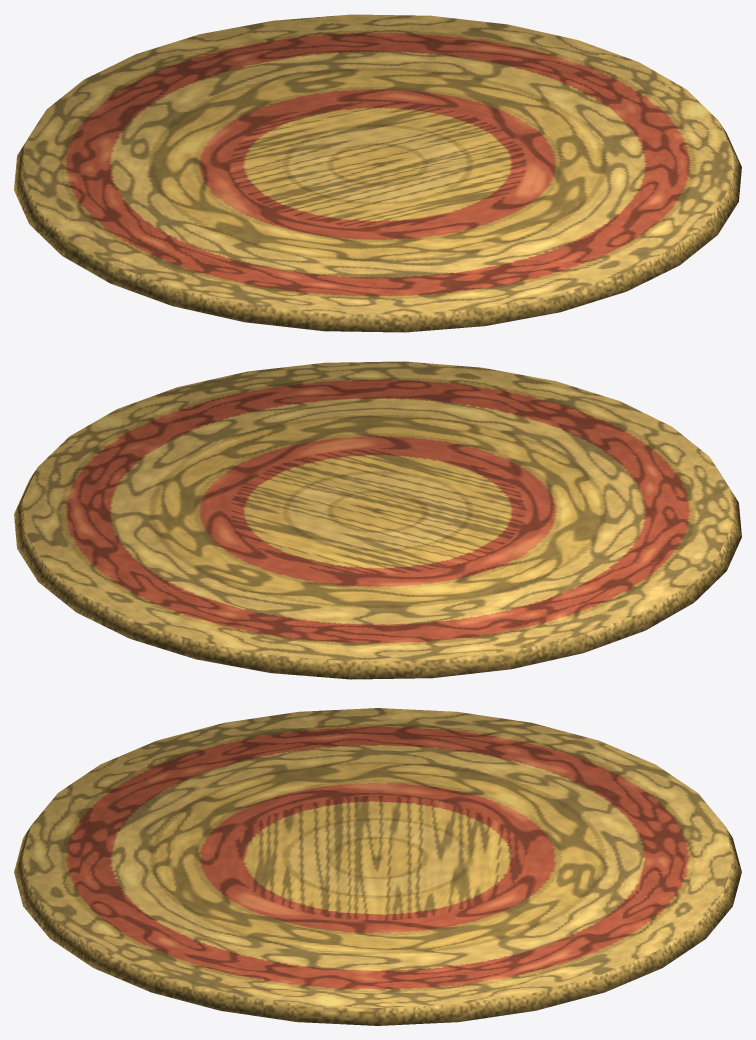
Rendered from rug_straw.glb.
3 views of the same model, one above another, from view 1: azimuth 30°, elevation 25°; view 2: azimuth 150°, elevation 25°; view 3: azimuth 270°, elevation 25° (orthographic).
Parts seen in each view (by area): view 1: RugStraw; view 2: RugStraw; view 3: RugStraw.
Boxes of the visible parts, x1=… form: RugStraw: x1=14, y1=14, x2=741, y2=332; RugStraw: x1=14, y1=361, x2=741, y2=679; RugStraw: x1=14, y1=708, x2=741, y2=1025.
Size of the model in its own units: 1.64 by 0.035 by 1.64.
1 material, 1 textured.
